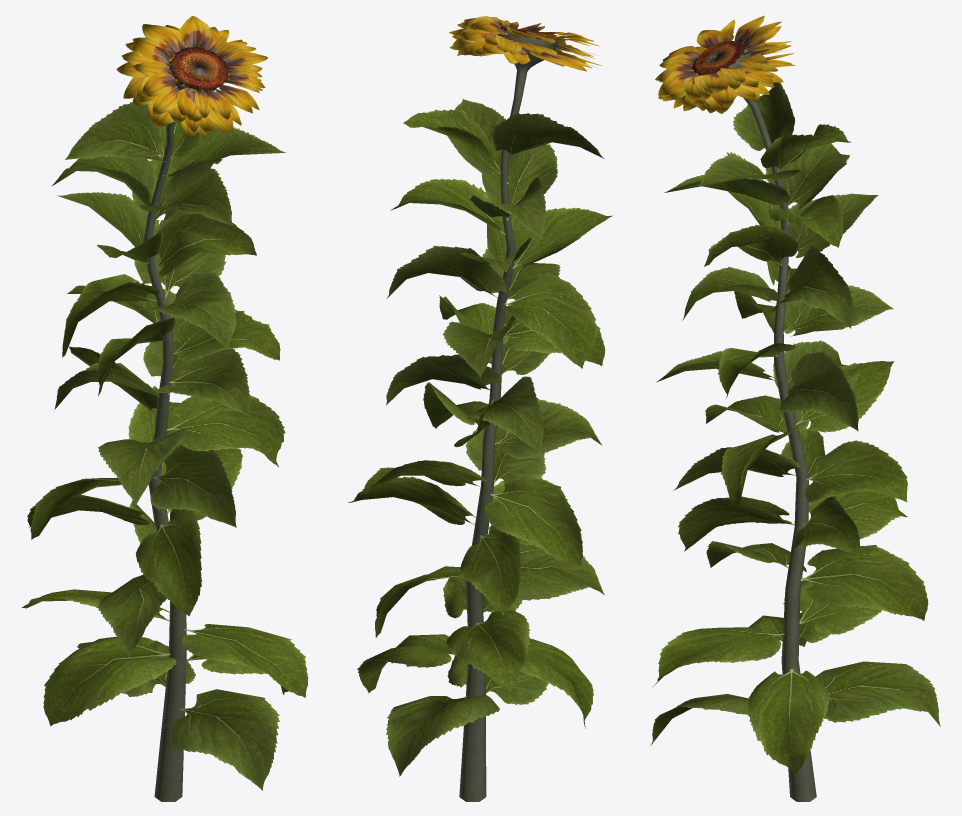
Rendered from Helianthus_Annuus_Spring_Adult.glb.
The picture shows the model from 3 angles, left to right: view 1: azimuth 30°, elevation 25°; view 2: azimuth 150°, elevation 25°; view 3: azimuth 270°, elevation 25°; orthographic projection. The views are drawn at different scales.
Visible parts, largest first — view 1: Helianthus_Annuus_Spring_Adult__LOD3; view 2: Helianthus_Annuus_Spring_Adult__LOD3; view 3: Helianthus_Annuus_Spring_Adult__LOD3.
Boxes of the visible parts, x1,y1,x2,y2 form: Helianthus_Annuus_Spring_Adult__LOD3: [21, 16, 308, 801]; Helianthus_Annuus_Spring_Adult__LOD3: [348, 16, 612, 801]; Helianthus_Annuus_Spring_Adult__LOD3: [650, 15, 940, 801].
Bounding box in the file's own units: 0.7929 × 2.38 × 0.8638.
Materials: 2 (2 with a texture image).
